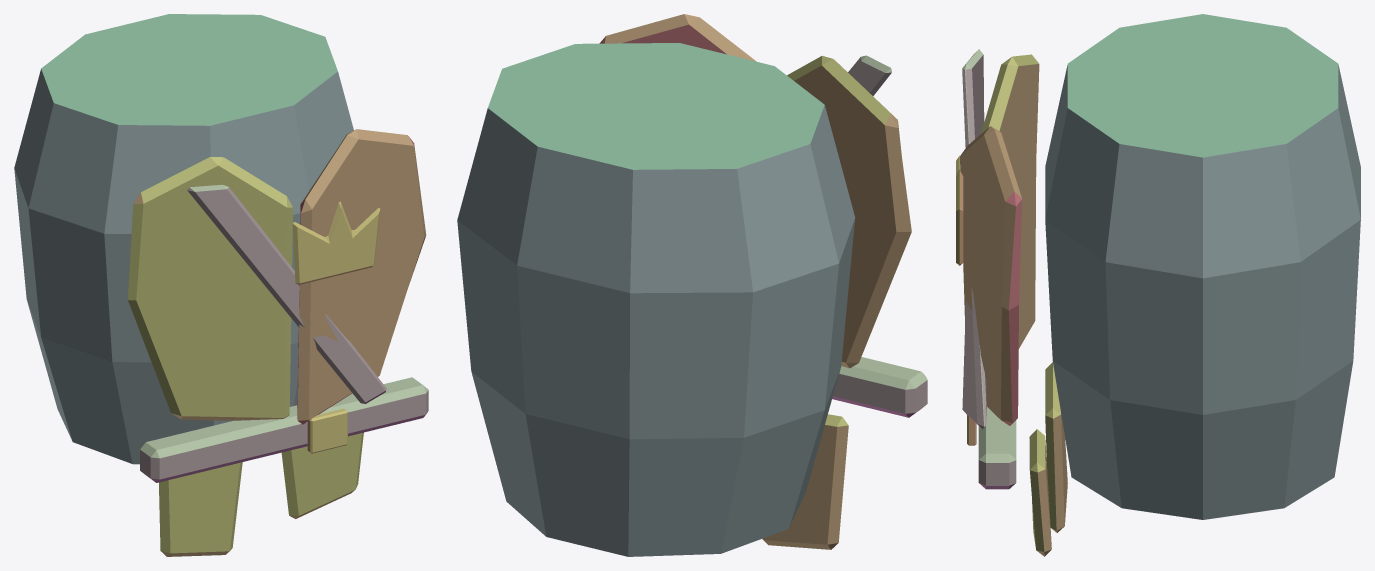
Rendered from npc_module_chest_plate_hero_v01.glb.
The picture shows the model from 3 angles, left to right: view 1: azimuth 30°, elevation 25°; view 2: azimuth 150°, elevation 25°; view 3: azimuth 270°, elevation 25°; orthographic projection. The views are drawn at different scales.
Parts seen in each view (by area): view 1: GEO_npc_module_chest_plate_hero_v01; view 2: GEO_npc_module_chest_plate_hero_v01; view 3: GEO_npc_module_chest_plate_hero_v01.
Part boxes in pixels (x1,y1,x2,y2): GEO_npc_module_chest_plate_hero_v01: [14, 14, 428, 556]; GEO_npc_module_chest_plate_hero_v01: [457, 14, 927, 556]; GEO_npc_module_chest_plate_hero_v01: [956, 14, 1360, 556].
Bounding box in the file's own units: 1.02 × 1.3 × 1.02.
